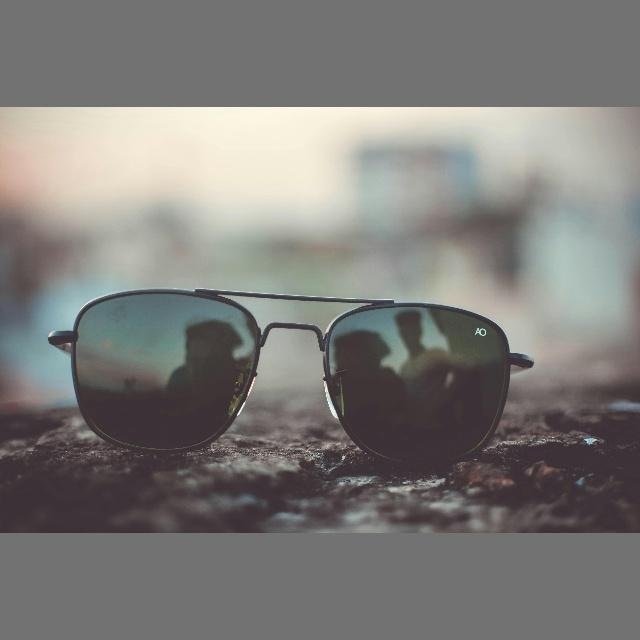Sunglasses: (53, 280, 537, 468)
